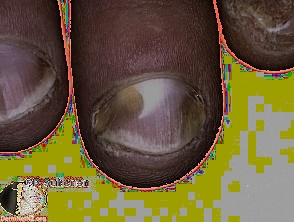Nail_psoriasis: (76, 59, 227, 181), (0, 12, 66, 144), (215, 0, 294, 64)
